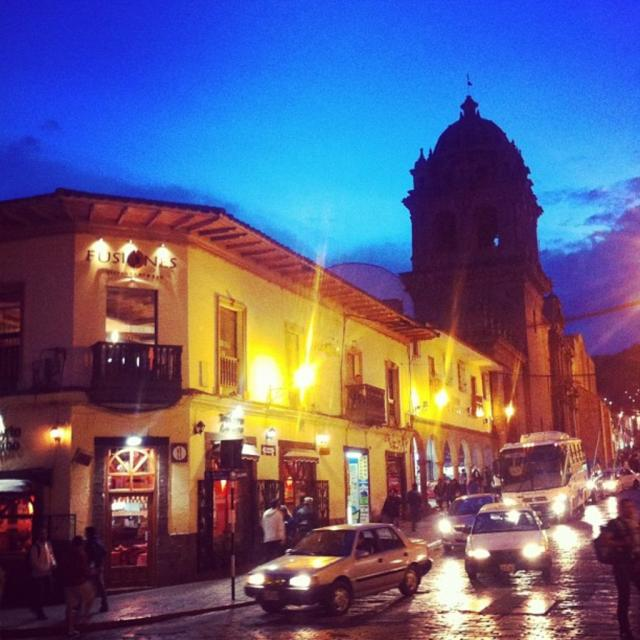car: (242, 521, 427, 615), (466, 500, 548, 573)
